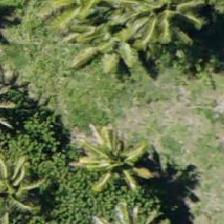coconut_tree: (76, 116, 166, 206), (118, 0, 208, 53), (0, 144, 53, 223)
